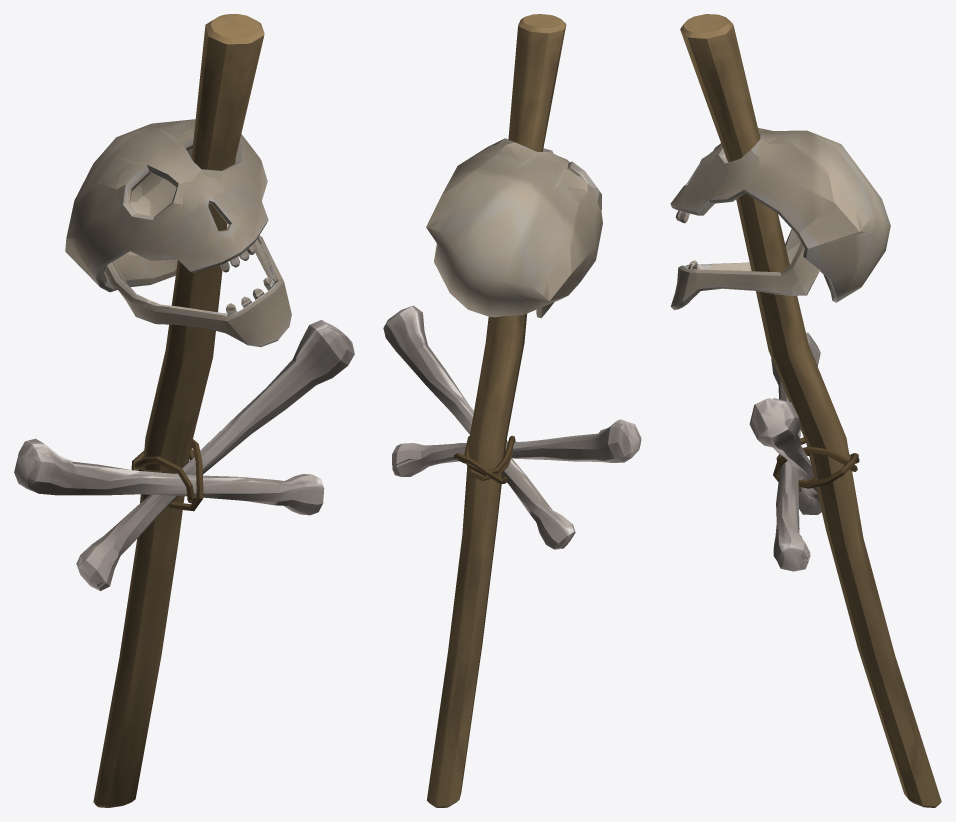
File: DangerSignal 1.fbx
3 renders of one model, left to right at view 1: azimuth 30°, elevation 25°; view 2: azimuth 150°, elevation 25°; view 3: azimuth 270°, elevation 25°, orthographic. The views are drawn at different scales.
Parts seen in each view (by area): view 1: Cube.002; view 2: Cube.002; view 3: Cube.002.
Part boxes in pixels (x1,y1,x2,y2): Cube.002: [14, 14, 354, 807]; Cube.002: [383, 14, 641, 807]; Cube.002: [670, 14, 941, 807].
Size of the model in its own units: 154 by 404 by 127.
